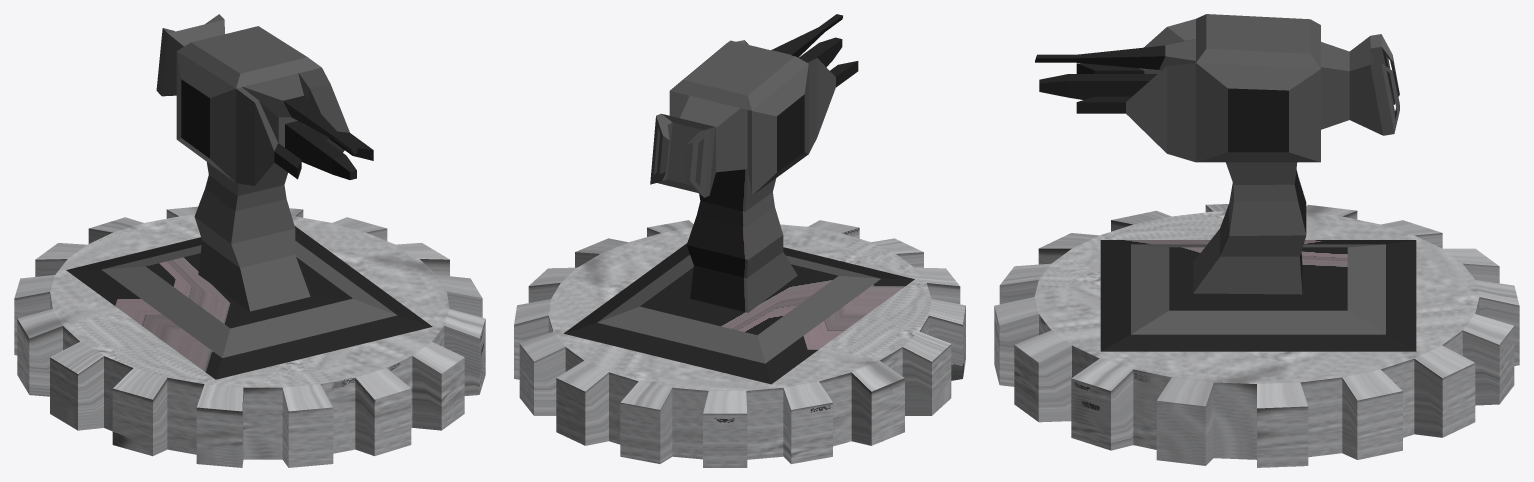
The model's file is Turrent.fbx.
3 renders of one model, left to right at view 1: azimuth 30°, elevation 25°; view 2: azimuth 150°, elevation 25°; view 3: azimuth 270°, elevation 25°, orthographic. The views are drawn at different scales.
Parts seen in each view (by area): view 1: Cylinder.012, Cube.083; view 2: Cylinder.012, Cube.083; view 3: Cube.083, Cylinder.012.
Boxes of the visible parts, <box> form: Cylinder.012: <box>14,206,485,467</box>; Cube.083: <box>66,14,432,379</box>; Cylinder.012: <box>514,220,965,467</box>; Cube.083: <box>564,14,914,384</box>; Cube.083: <box>1035,14,1416,351</box>; Cylinder.012: <box>994,204,1519,467</box>.
Size of the model in its own units: 153 by 118 by 165.
Materials: 3 (3 with a texture image).
